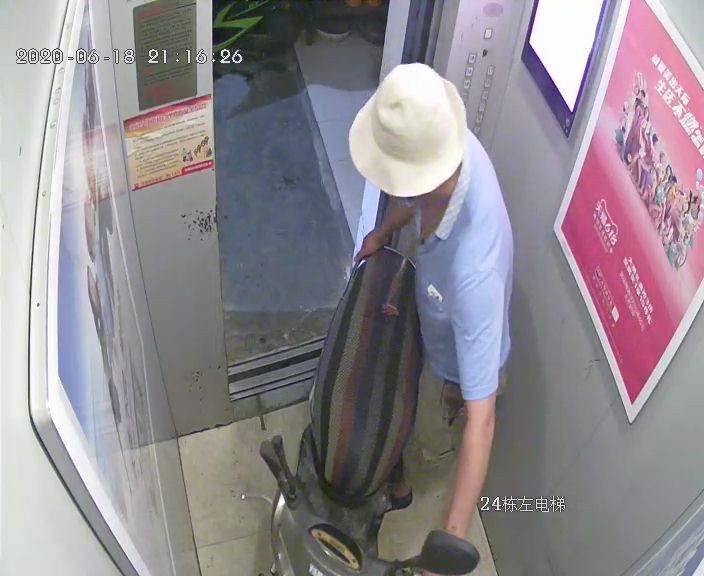Electric-bicycle: (256, 247, 476, 576)
